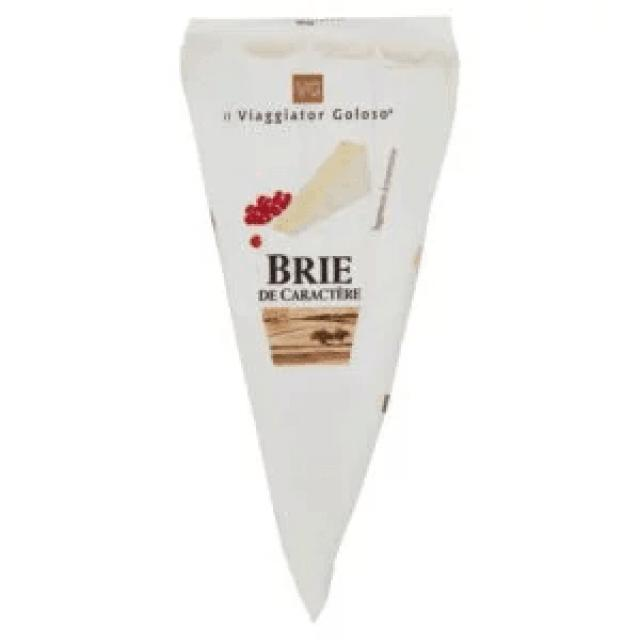cheese: (179, 19, 461, 623)
